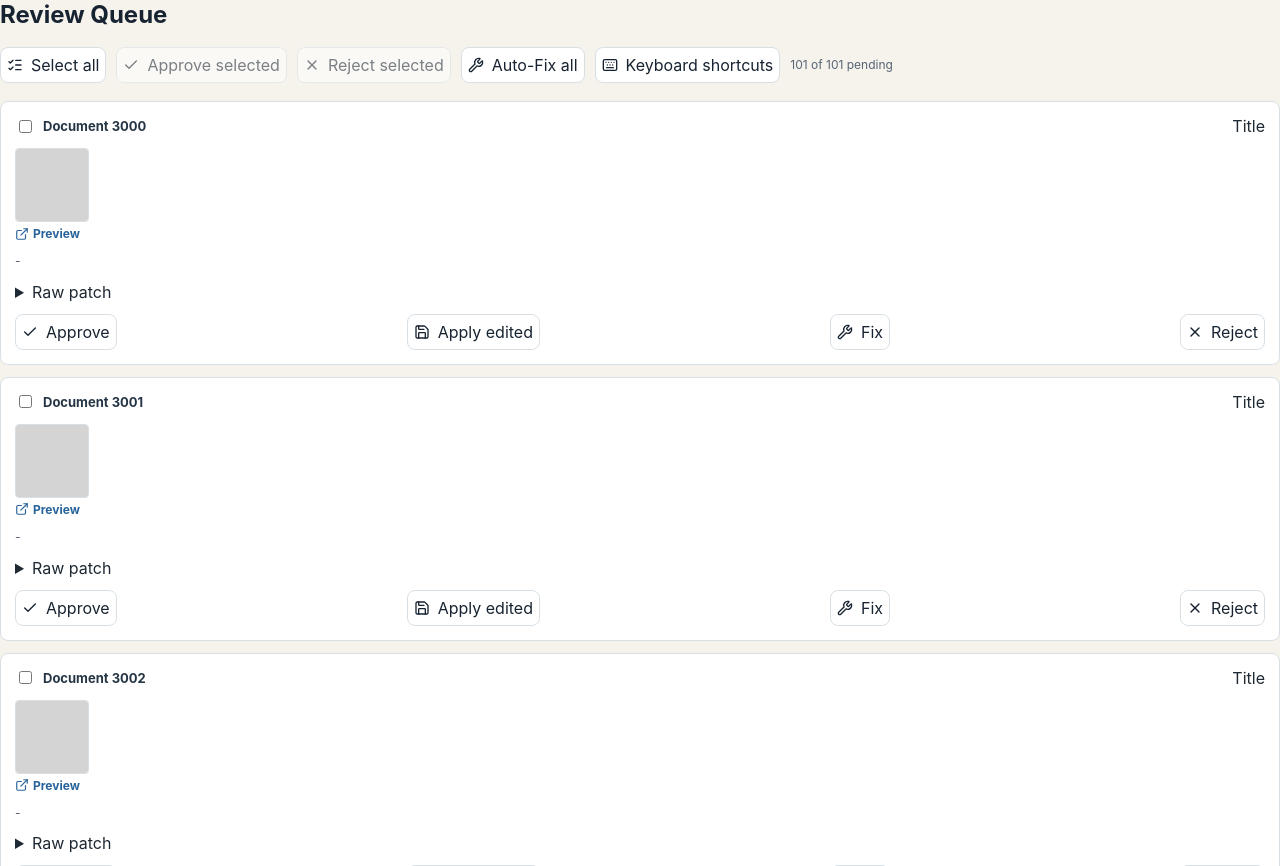
Scenario: <Reviews> behaviour › refreshes after a later chunk fails at the transport level (#455)
Expected: the text "Document 3000" is shown, [43,118,146,134]
Click the button "Select all" at x=53, y=65, box [0,47,106,83]
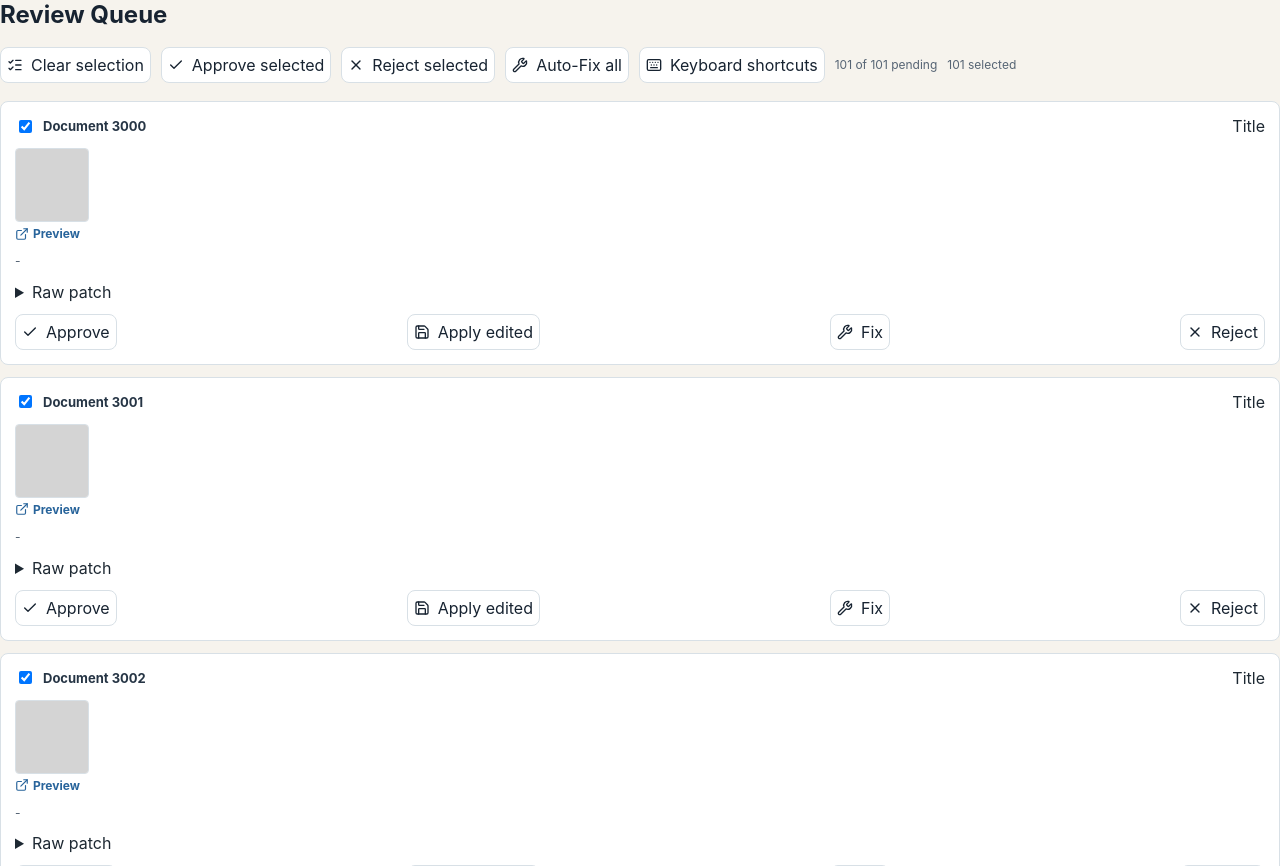
Click the button "Reject selected" at x=418, y=65, box [341,47,495,83]
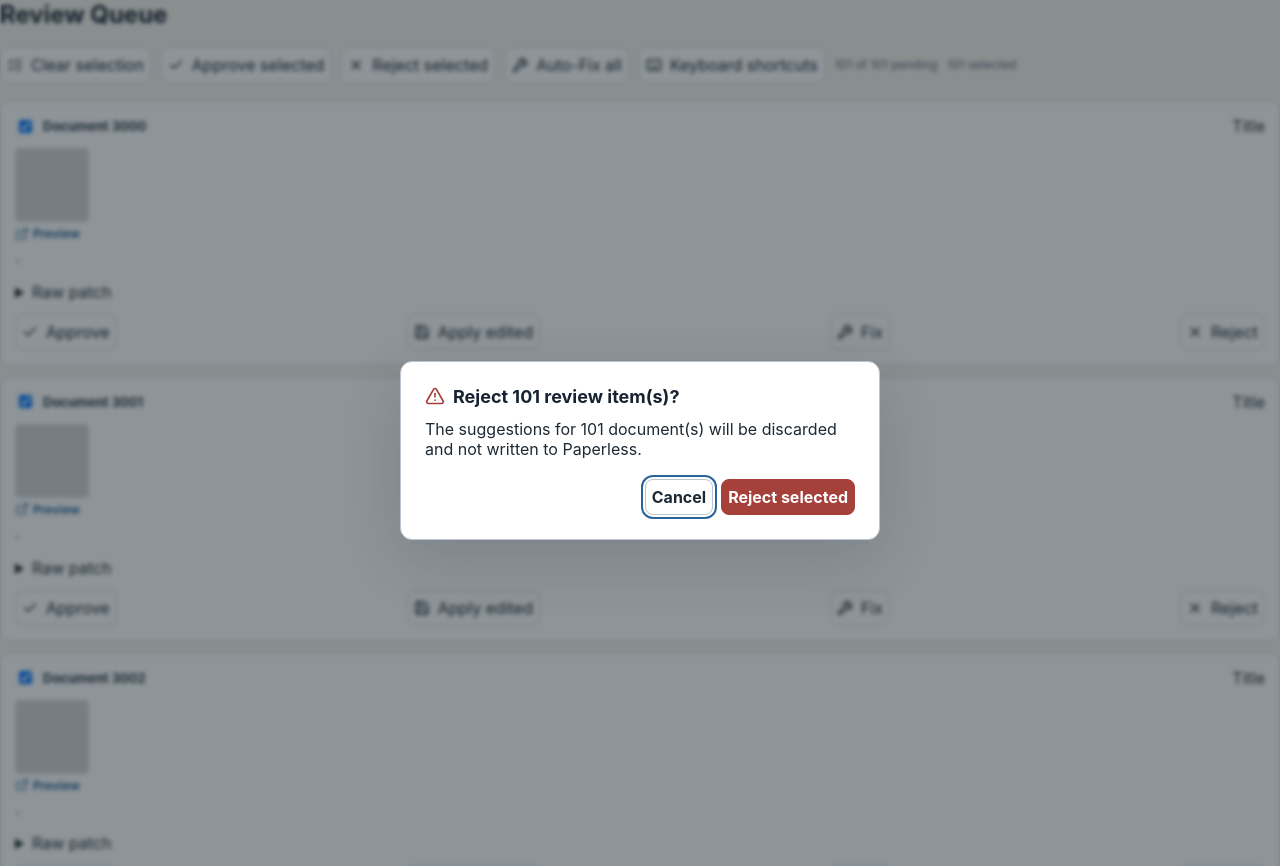
Click the button "Reject selected" at x=788, y=496, box [721,478,855,514]
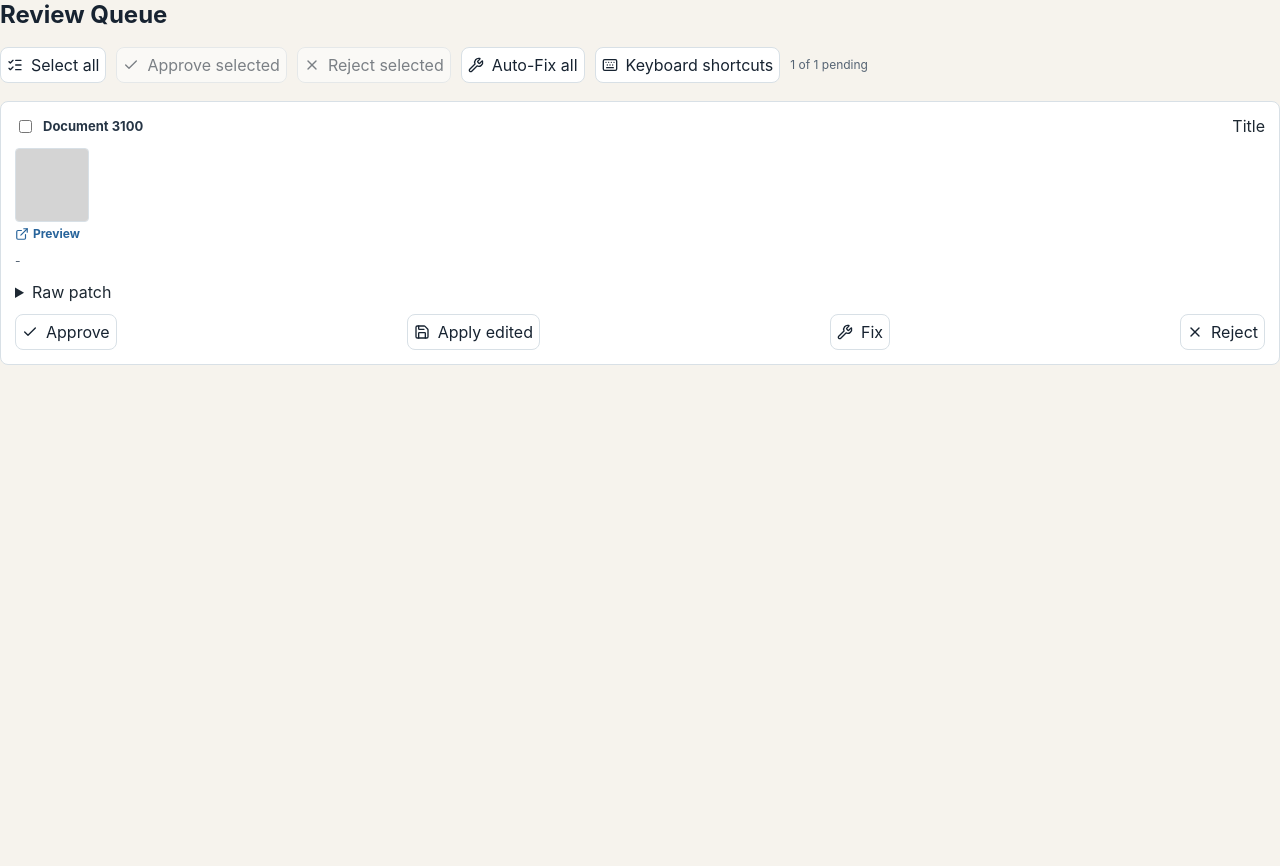
Expected: the text "Document 3100" is shown, [43,118,143,134]
Expected: the text "Document 3000" is gone
